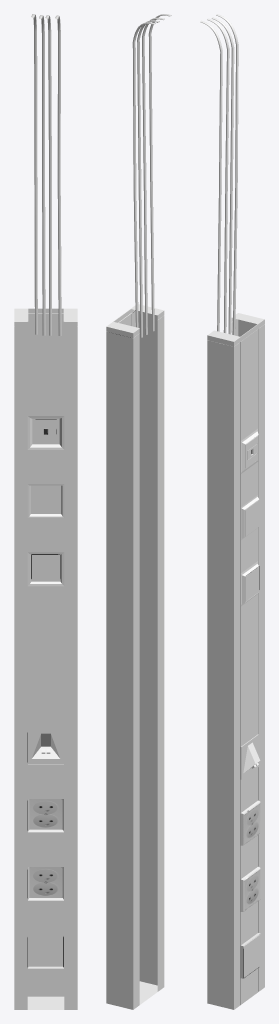
Rendered from ElectriacalOutlet.fbx.
3 views of the same model, side by side, from view 1: azimuth 90°, elevation 25°; view 2: azimuth 150°, elevation 25°; view 3: azimuth 330°, elevation 25° (orthographic). The views are drawn at different scales.
Visible parts, largest first — view 1: Cube.045; view 2: Cube.045; view 3: Cube.045.
Part boxes in pixels (bbox=[...]): Cube.045: bbox=[14, 14, 77, 1009]; Cube.045: bbox=[106, 14, 171, 1009]; Cube.045: bbox=[200, 14, 264, 1009].
Bounding box in the file's own units: 0.1668 × 0.1628 × 2.91.
Materials: 1 (1 with a texture image).
